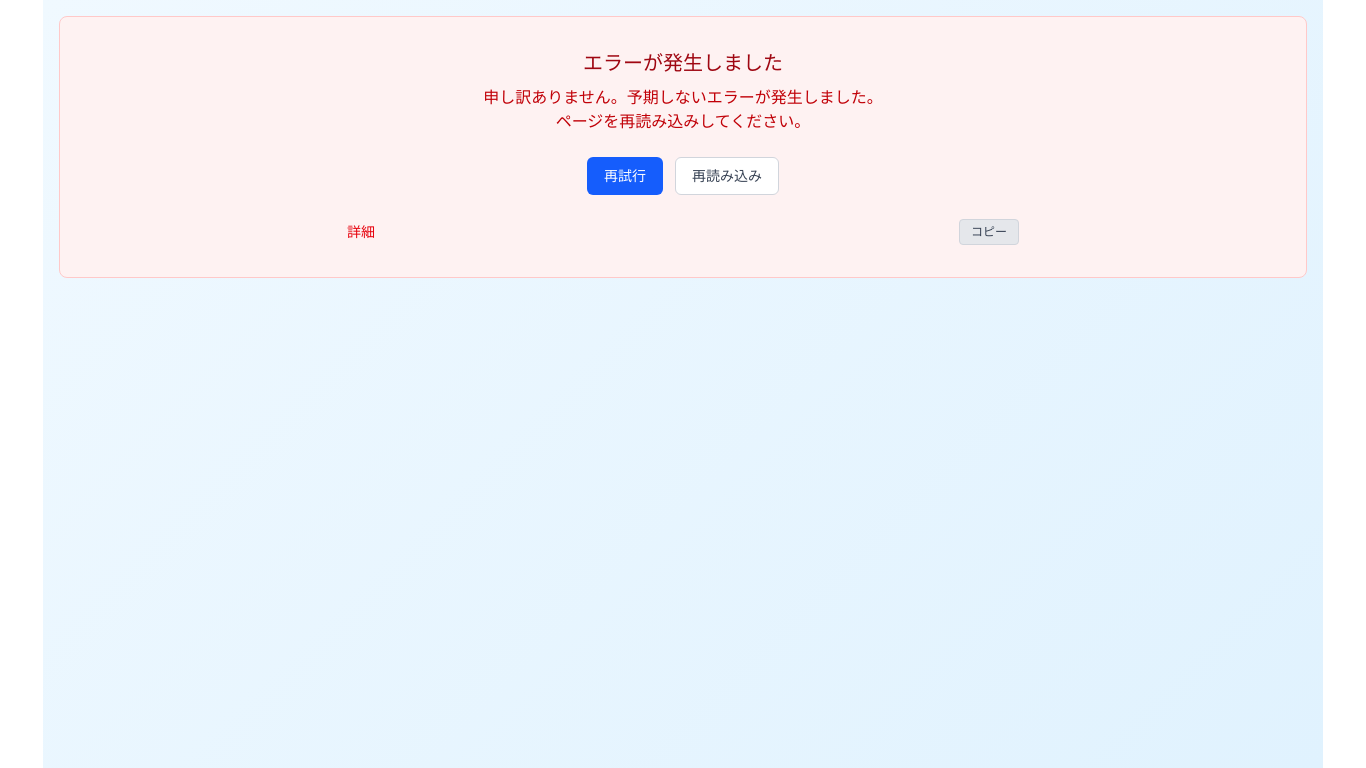
it: ErrorBoundary › エラーハンドリング › エラー詳細を展開して表示できる
This screenshot has width=1366, height=768.
// 技術的な詳細セクションを開く
Click the text "詳細".
click(361, 232)  # box [347, 222, 375, 242]
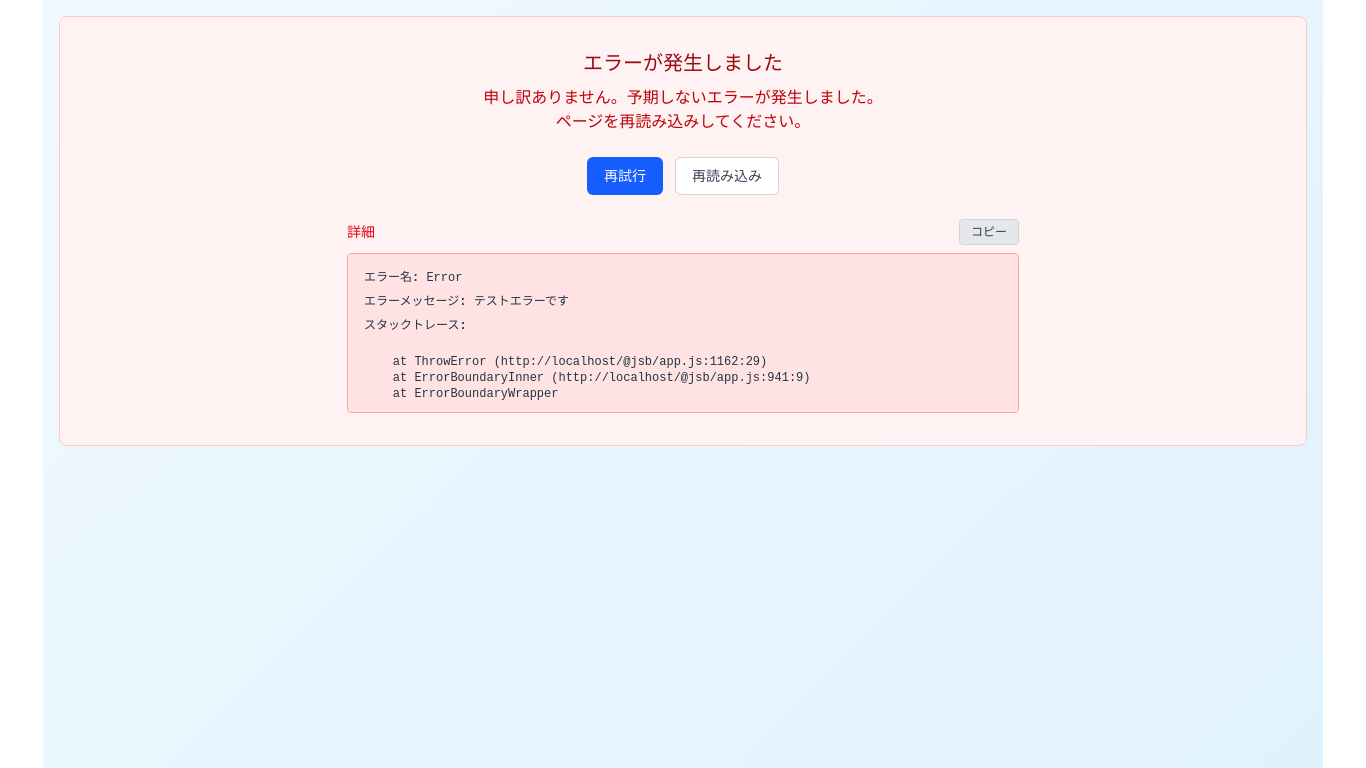
Expected: the text "エラー名:" is shown, [364, 271, 419, 285]
Expected: the text "エラーメッセージ:" is shown, [364, 295, 466, 309]
Expected: the text "テストエラーです" is shown, [474, 295, 569, 309]
